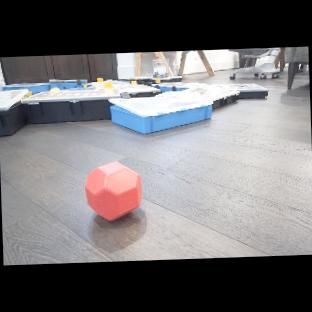V5_RED: (84, 159, 145, 225)
